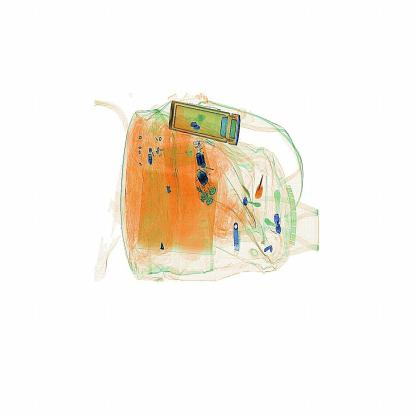wrench: (253, 172, 274, 204)
